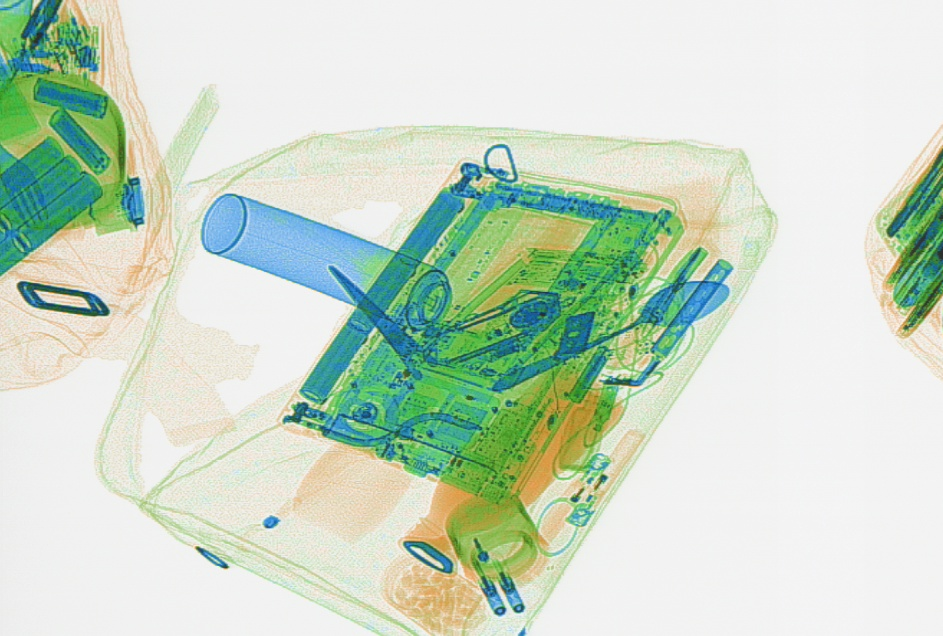lighter: (563, 426, 644, 526), (535, 449, 611, 541)
powerbank: (2, 134, 101, 277)
pressure: (197, 192, 454, 331)
scissors: (325, 262, 437, 380)
